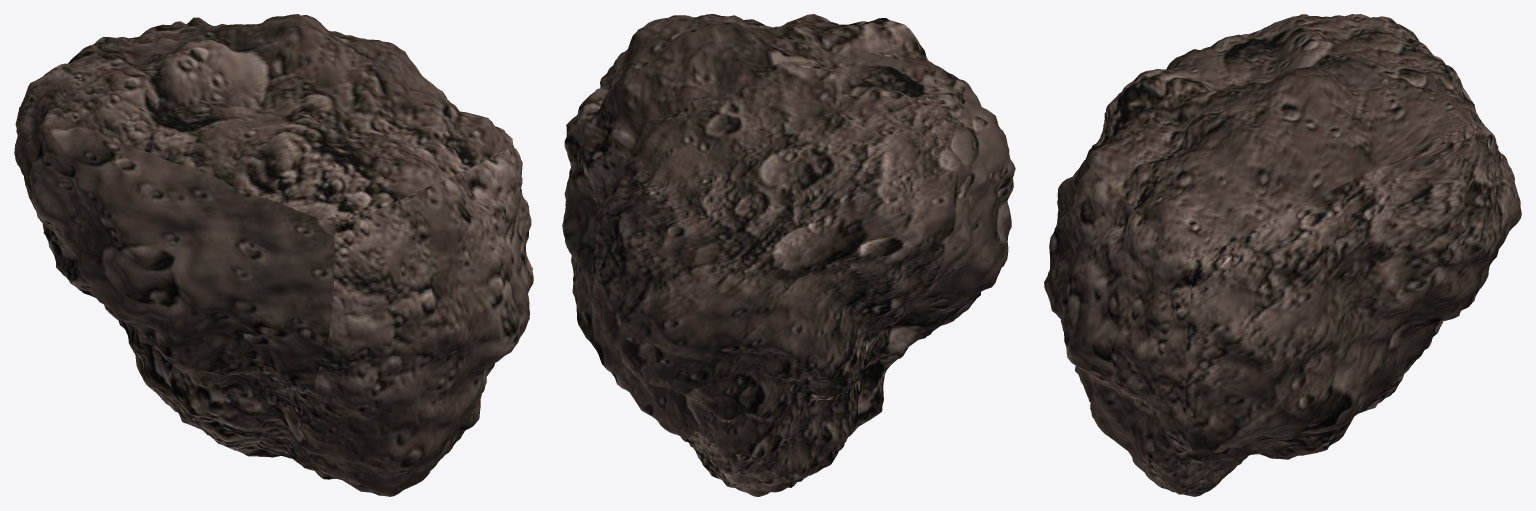
The model's file is Meteoro Vista.glb.
3 renders of one model, left to right at view 1: azimuth 30°, elevation 25°; view 2: azimuth 150°, elevation 25°; view 3: azimuth 270°, elevation 25°, orthographic. The views are drawn at different scales.
Parts seen in each view (by area): view 1: asteroid3_LOD0; view 2: asteroid3_LOD0; view 3: asteroid3_LOD0.
Boxes of the visible parts, left/top/right/bottom form: asteroid3_LOD0: left=14, top=14, right=533, bottom=496; asteroid3_LOD0: left=562, top=14, right=1015, bottom=496; asteroid3_LOD0: left=1044, top=14, right=1521, bottom=496.
Size of the model in its own units: 0.7975 by 0.7933 by 0.8534.
1 material, 1 textured.
